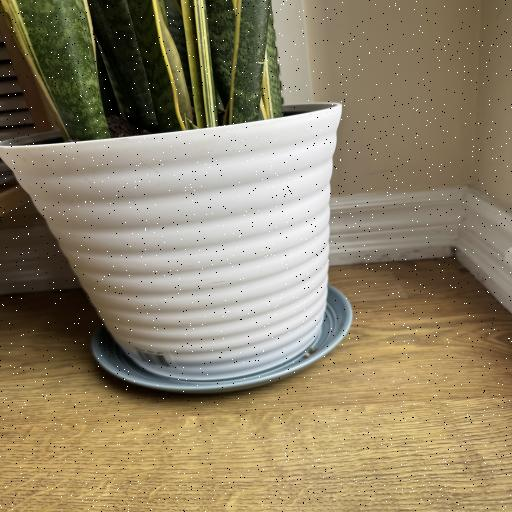Plant Pot: (0, 99, 342, 377)
